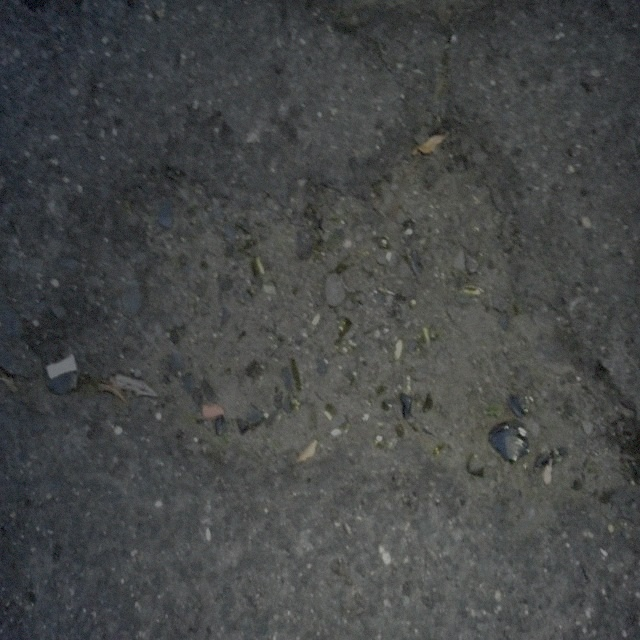pothole: (39, 109, 628, 534)
